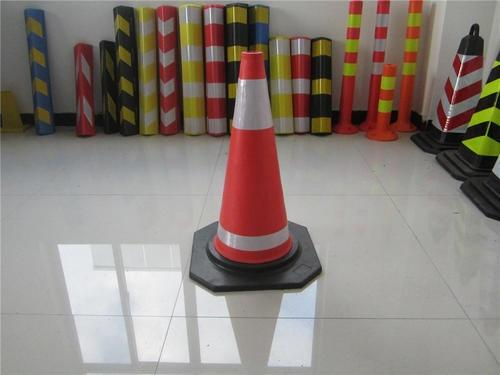cone_barrel: (198, 53, 307, 274), (423, 24, 486, 139), (452, 51, 499, 173), (394, 0, 424, 129), (176, 3, 204, 129), (201, 6, 227, 134), (336, 0, 362, 125), (305, 32, 334, 130), (288, 29, 312, 130), (373, 62, 398, 136)
